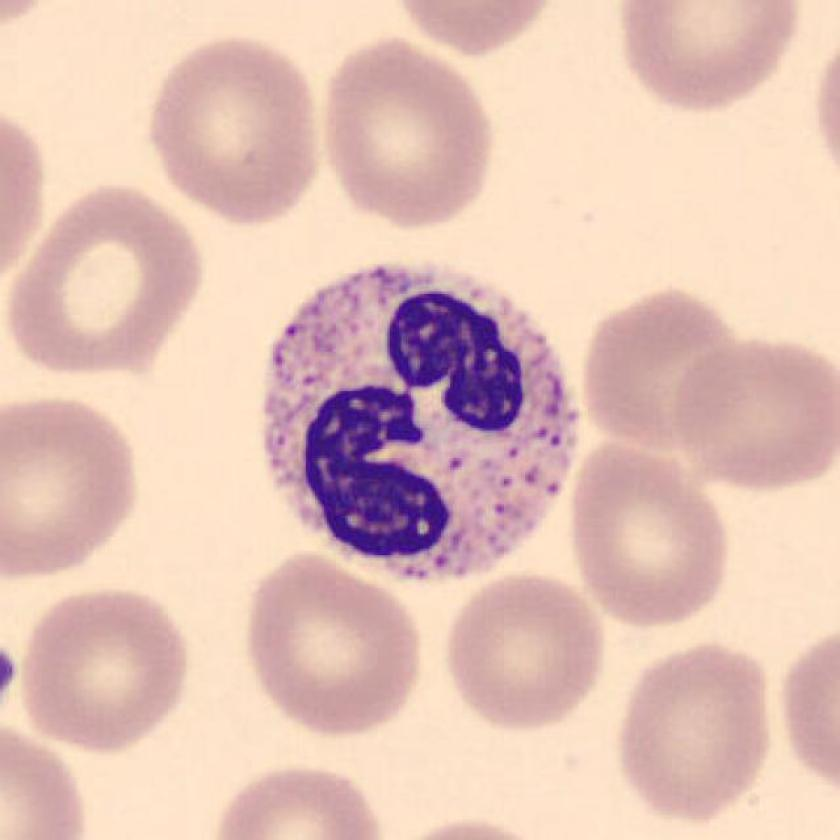neutrophil: (264, 267, 577, 580)
